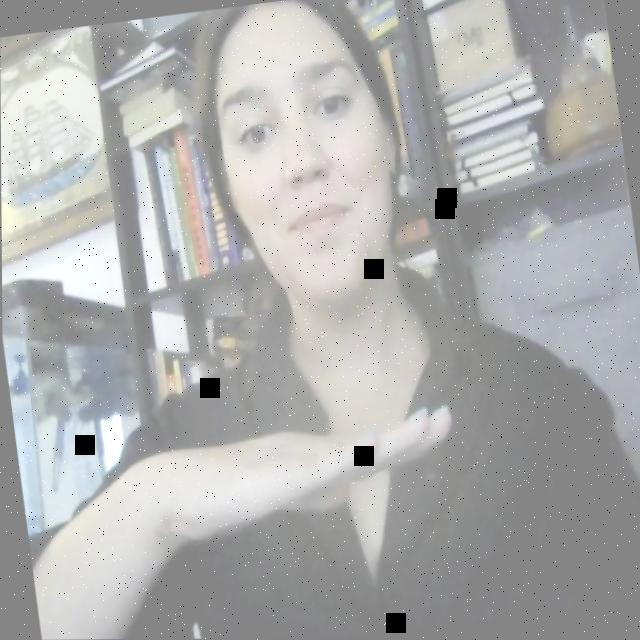Paper: (132, 381, 481, 578)
